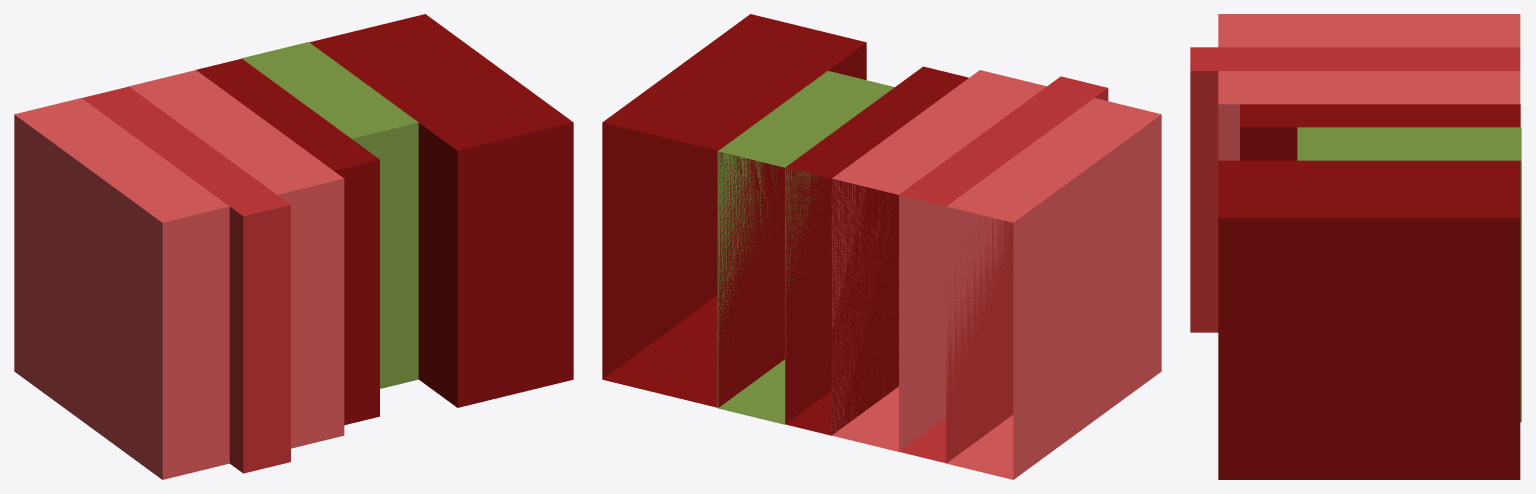
Rendered from RG_Dungeon_Books-06.fbx.
3 views of the same model, side by side, from view 1: azimuth 30°, elevation 25°; view 2: azimuth 150°, elevation 25°; view 3: azimuth 270°, elevation 25° (orthographic).
Visible parts, largest first — view 1: RG_Dungeon_Books-06; view 2: RG_Dungeon_Books-06; view 3: RG_Dungeon_Books-06.
Part boxes in pixels (left/top/right/bottom): RG_Dungeon_Books-06: left=14, top=14, right=573, bottom=479; RG_Dungeon_Books-06: left=602, top=14, right=1161, bottom=479; RG_Dungeon_Books-06: left=1190, top=14, right=1521, bottom=479.
Bounding box in the file's own units: 2.73 × 1.63 × 1.87.
